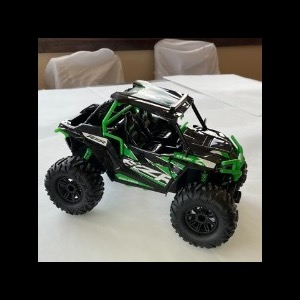polaris: (44, 80, 249, 252)
